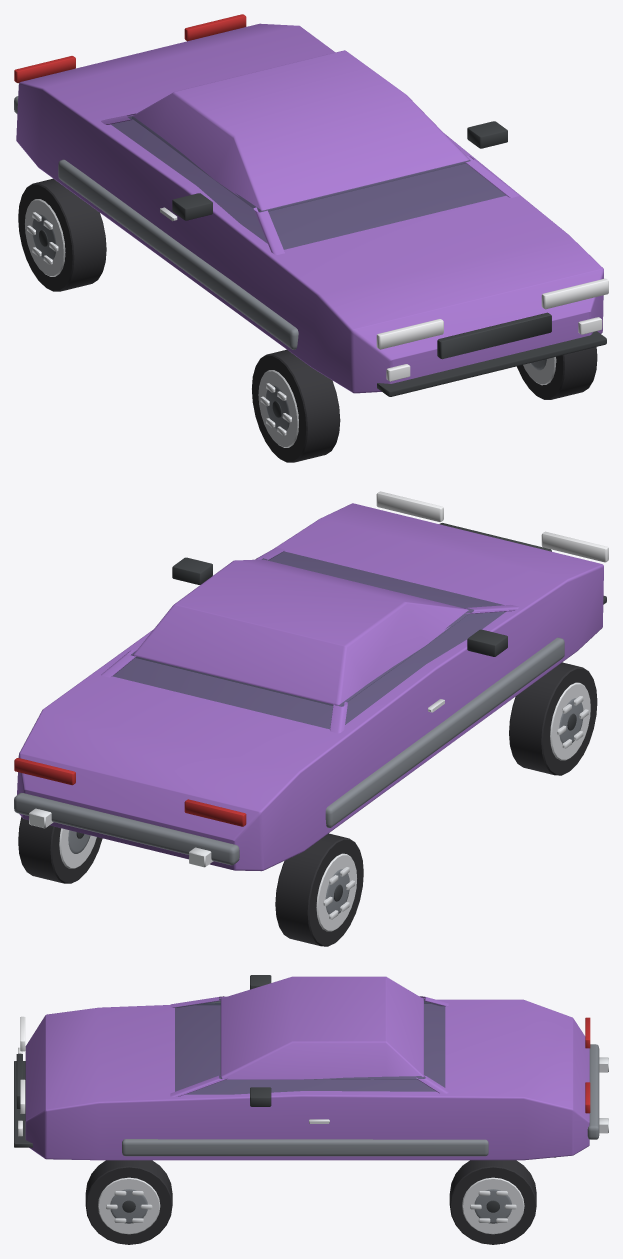
Rendered from obsidian-v8.glb.
3 renders of one model, top to bottom at view 1: azimuth 30°, elevation 25°; view 2: azimuth 150°, elevation 25°; view 3: azimuth 270°, elevation 25°, orthographic. The views are drawn at different scales.
Parts seen in each view (by area): view 1: paint, tyre, glass, trim, accent, rim, head, tail; view 2: paint, tyre, accent, glass, rim, trim, head, tail; view 3: paint, accent, glass, tyre, rim, trim, head, tail.
Boxes of the visible parts, x1=… form: paint: x1=16, y1=23, x2=603, y2=393; tyre: x1=18, y1=178, x2=597, y2=462; glass: x1=111, y1=116, x2=506, y2=249; trim: x1=39, y1=121, x2=606, y2=417; accent: x1=14, y1=96, x2=546, y2=430; rim: x1=25, y1=199, x2=556, y2=447; head: x1=376, y1=278, x2=608, y2=381; tail: x1=14, y1=14, x2=246, y2=83; paint: x1=17, y1=503, x2=603, y2=871; tyre: x1=18, y1=662, x2=597, y2=946; accent: x1=14, y1=637, x2=583, y2=914; glass: x1=113, y1=551, x2=505, y2=729; rim: x1=29, y1=682, x2=590, y2=931; trim: x1=76, y1=523, x2=606, y2=901; head: x1=376, y1=491, x2=608, y2=562; tail: x1=14, y1=758, x2=246, y2=826; paint: x1=25, y1=976, x2=589, y2=1160; accent: x1=110, y1=1044, x2=599, y2=1223; glass: x1=175, y1=998, x2=445, y2=1094; tyre: x1=85, y1=1160, x2=536, y2=1244; rim: x1=98, y1=1057, x2=608, y2=1234; trim: x1=14, y1=975, x2=555, y2=1212; head: x1=18, y1=1016, x2=25, y2=1136; tail: x1=585, y1=1017, x2=590, y2=1113.
Size of the model in its own units: 2.48 by 1.7 by 5.07.
